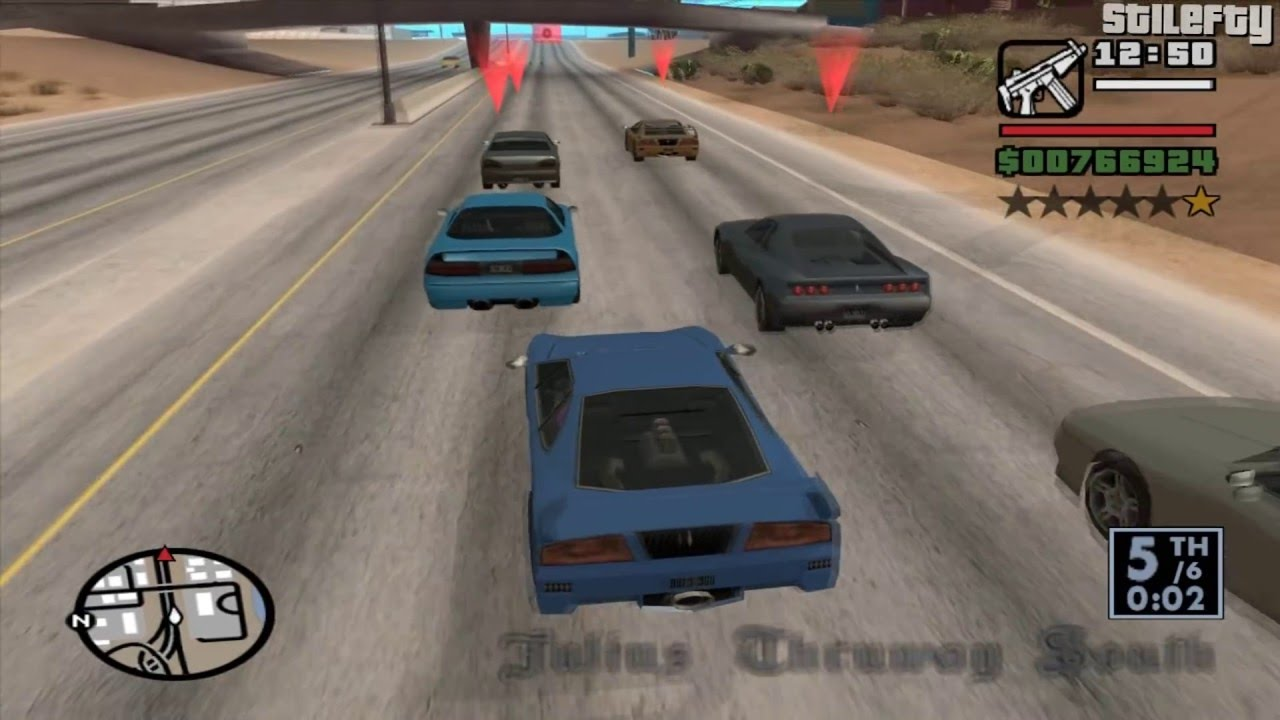car: (521, 324, 844, 623), (715, 209, 935, 336), (420, 191, 587, 311), (482, 127, 560, 185), (619, 120, 715, 167)
